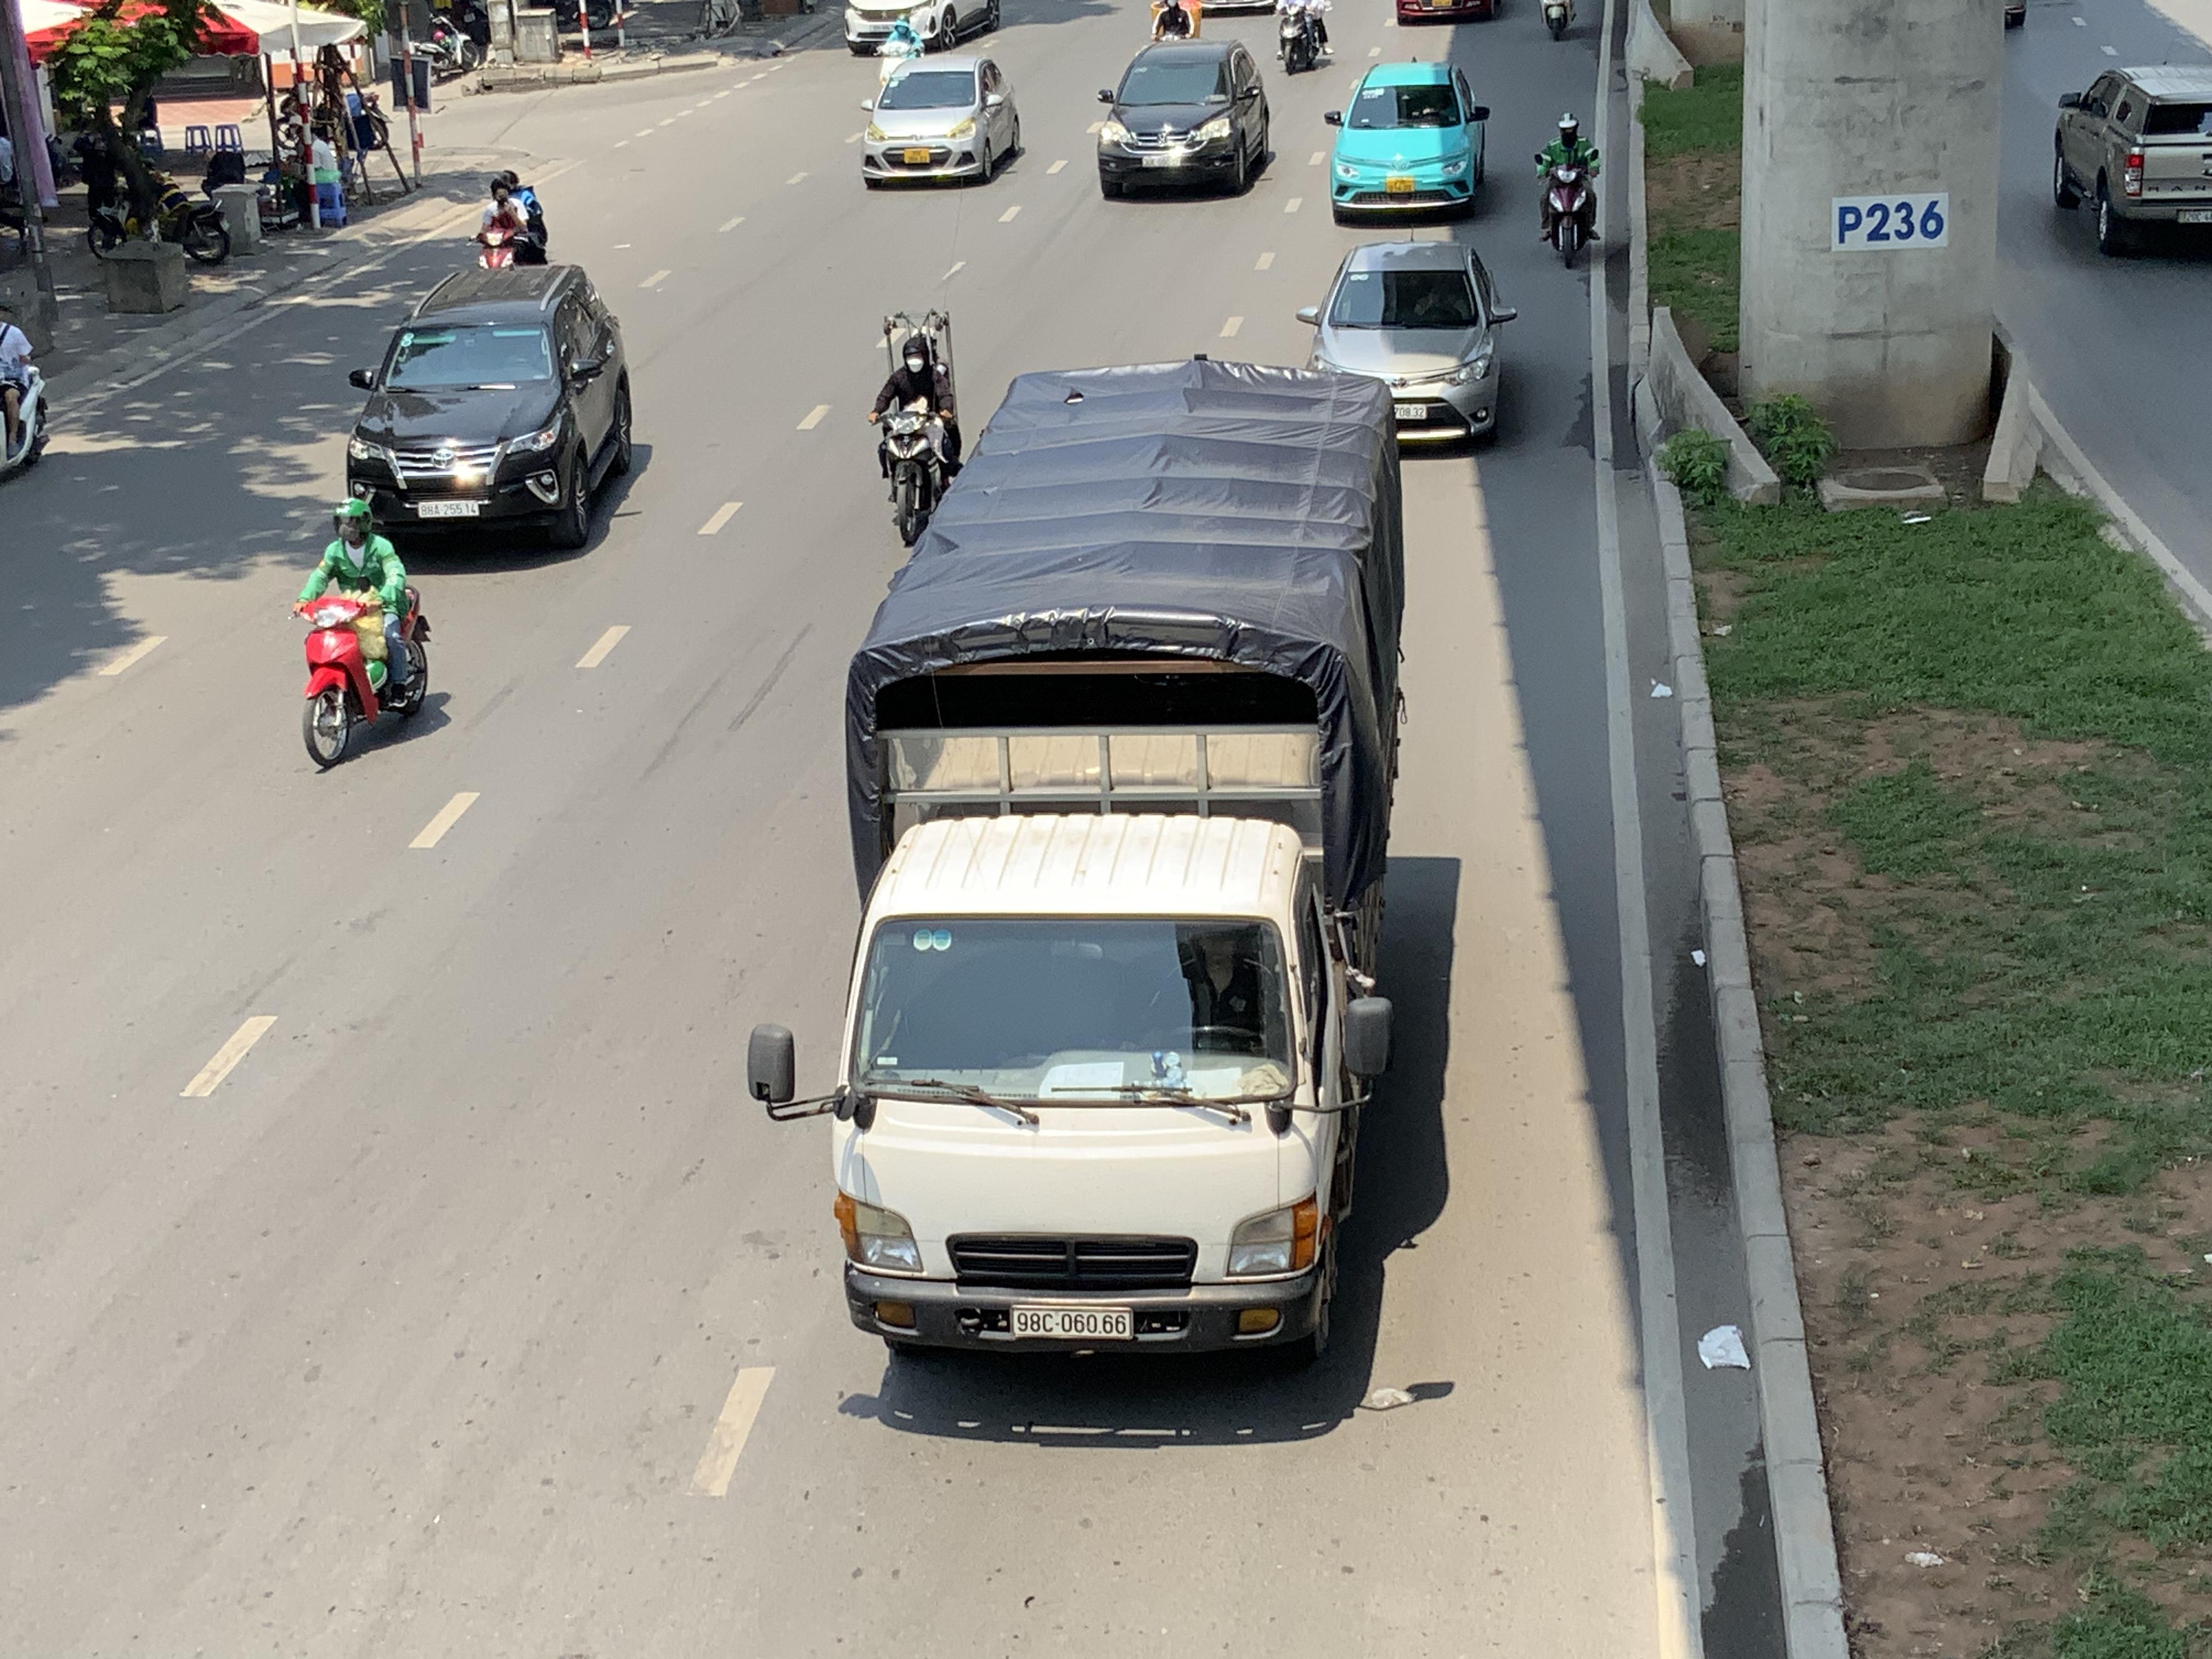BSD: (1012, 1305, 1134, 1338), (418, 500, 482, 518), (2179, 206, 2212, 223), (1393, 404, 1426, 418)
BSV: (904, 146, 930, 164), (1386, 178, 1414, 193)
car: (343, 261, 637, 552), (1292, 237, 1519, 448), (2050, 63, 2212, 260), (1092, 35, 1273, 200), (1322, 59, 1491, 223), (859, 52, 1024, 188), (1393, 0, 1515, 24)
motorbike: (294, 497, 434, 772), (82, 119, 232, 265), (873, 326, 961, 547), (1534, 112, 1601, 268), (0, 295, 51, 497), (474, 167, 550, 270), (1275, 0, 1332, 75), (1148, 0, 1202, 40), (1540, 0, 1580, 40)
truck: (745, 356, 1411, 1371)
